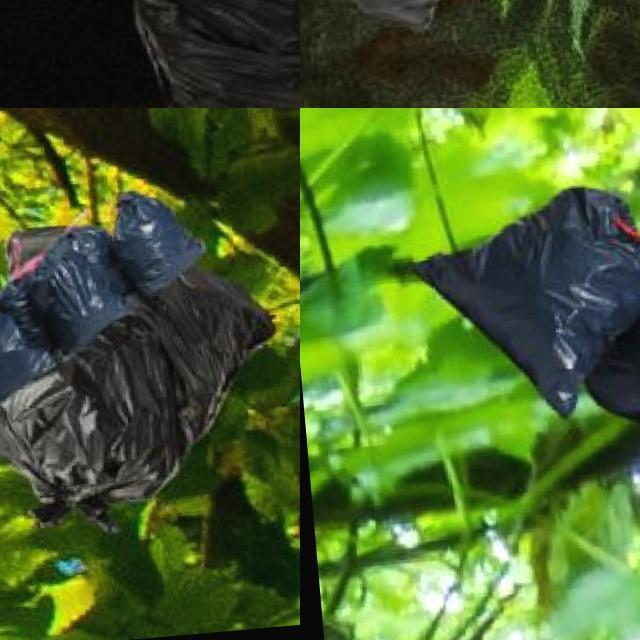waste: (0, 267, 288, 524), (411, 181, 640, 427), (116, 0, 300, 108), (1, 222, 141, 337), (583, 259, 640, 483), (112, 191, 211, 301), (0, 298, 51, 384)
